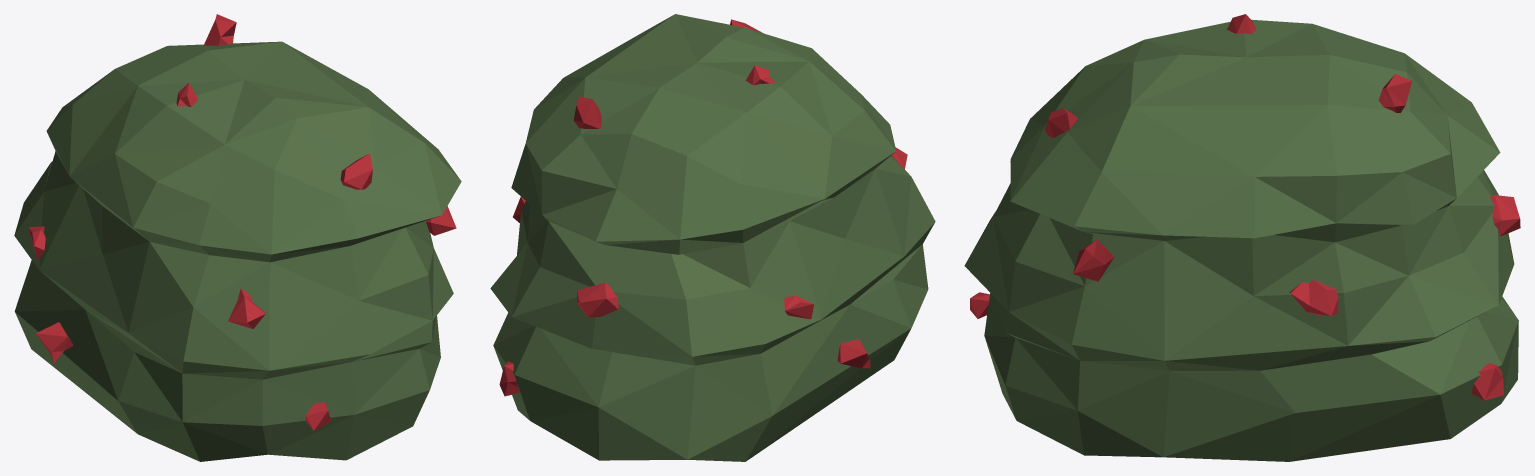
Rendered from BushBerries_1.lod1.glb.
The picture shows the model from 3 angles, left to right: view 1: azimuth 30°, elevation 25°; view 2: azimuth 150°, elevation 25°; view 3: azimuth 270°, elevation 25°; orthographic projection. The views are drawn at different scales.
Parts seen in each view (by area): view 1: BushBerries_1; view 2: BushBerries_1; view 3: BushBerries_1.
Boxes of the visible parts, x1=… form: BushBerries_1: x1=14, y1=14, x2=461, y2=461; BushBerries_1: x1=490, y1=14, x2=935, y2=461; BushBerries_1: x1=964, y1=14, x2=1520, y2=461.
Size of the model in its own units: 1.4 by 1.27 by 1.72.
